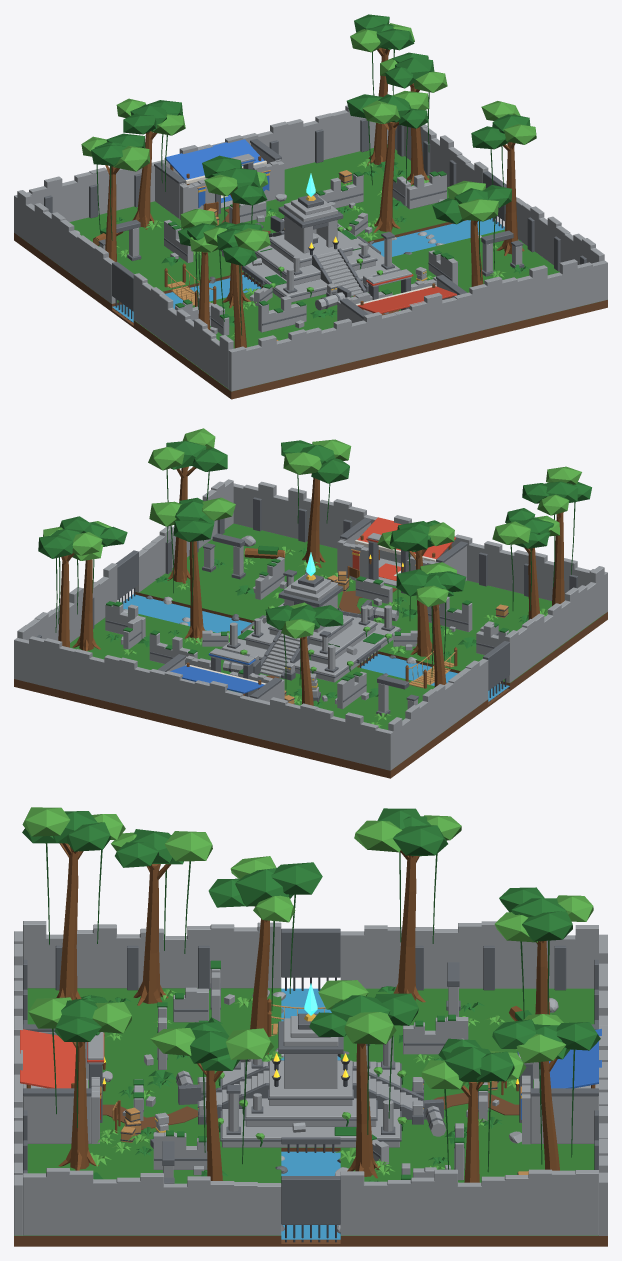
File: jungle_ruins.glb
The picture shows the model from 3 angles, top to bottom: view 1: azimuth 30°, elevation 25°; view 2: azimuth 150°, elevation 25°; view 3: azimuth 270°, elevation 25°; orthographic projection. The views are drawn at different scales.
Parts seen in each view (by area): view 1: jungle_ruins.001, jungle_ruins.006, jungle_ruins.012, jungle_ruins.013, jungle_ruins.002, jungle_ruins.009, jungle_ruins.005, jungle_ruins.011, jungle_ruins.014, jungle_ruins, jungle_ruins.008; view 2: jungle_ruins.001, jungle_ruins.006, jungle_ruins.012, jungle_ruins.002, jungle_ruins.013, jungle_ruins.009, jungle_ruins.005, jungle_ruins.011, jungle_ruins, jungle_ruins.014, jungle_ruins.008, jungle_ruins.003; view 3: jungle_ruins.001, jungle_ruins.006, jungle_ruins.012, jungle_ruins.002, jungle_ruins.013, jungle_ruins.009, jungle_ruins.005, jungle_ruins.011, jungle_ruins, jungle_ruins.014, jungle_ruins.003, jungle_ruins.008.
Boxes of the visible parts, <box> form: jungle_ruins.001: <box>14,105,607,391</box>; jungle_ruins.006: <box>69,145,559,390</box>; jungle_ruins.012: <box>91,14,530,335</box>; jungle_ruins.013: <box>81,23,536,338</box>; jungle_ruins.002: <box>44,118,586,328</box>; jungle_ruins.009: <box>93,48,524,348</box>; jungle_ruins.005: <box>14,208,607,399</box>; jungle_ruins.011: <box>112,218,504,322</box>; jungle_ruins.014: <box>165,139,269,207</box>; jungle_ruins: <box>357,274,456,313</box>; jungle_ruins.008: <box>93,170,351,340</box>; jungle_ruins.001: <box>14,479,607,770</box>; jungle_ruins.006: <box>70,523,605,729</box>; jungle_ruins.012: <box>38,440,591,720</box>; jungle_ruins.002: <box>36,497,577,715</box>; jungle_ruins.013: <box>43,428,581,727</box>; jungle_ruins.009: <box>58,466,564,705</box>; jungle_ruins.005: <box>14,588,607,778</box>; jungle_ruins.011: <box>123,594,509,701</box>; jungle_ruins: <box>352,517,455,580</box>; jungle_ruins.014: <box>170,653,264,693</box>; jungle_ruins.008: <box>244,549,508,703</box>; jungle_ruins.003: <box>118,553,508,704</box>; jungle_ruins.001: <box>14,921,607,1235</box>; jungle_ruins.006: <box>14,988,598,1235</box>; jungle_ruins.012: <box>22,808,600,1181</box>; jungle_ruins.002: <box>23,928,598,1231</box>; jungle_ruins.013: <box>22,807,593,1176</box>; jungle_ruins.009: <box>26,843,595,1182</box>; jungle_ruins.005: <box>14,1090,607,1246</box>; jungle_ruins.011: <box>281,988,340,1239</box>; jungle_ruins: <box>20,1029,104,1119</box>; jungle_ruins.014: <box>517,1028,601,1119</box>; jungle_ruins.003: <box>104,977,517,1242</box>; jungle_ruins.008: <box>100,1004,528,1174</box>.
Bounding box in the file's own units: 35 × 13.53 × 35.
